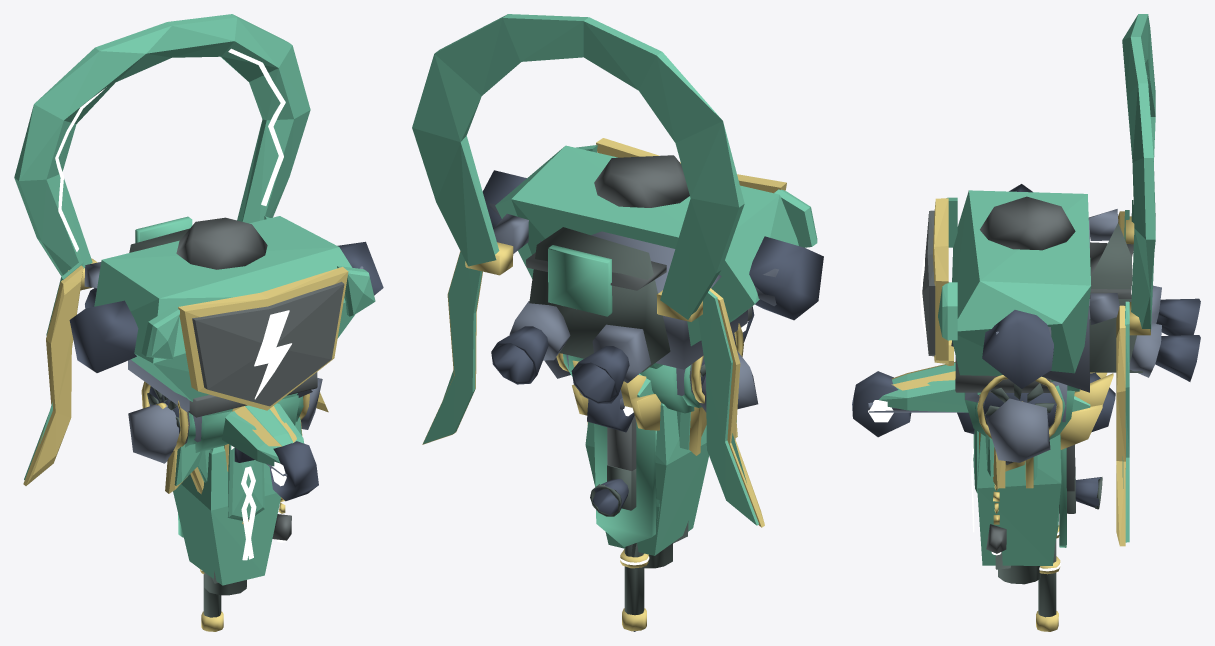
The model's file is fujin-lod2.glb.
3 renders of one model, left to right at view 1: azimuth 30°, elevation 25°; view 2: azimuth 150°, elevation 25°; view 3: azimuth 270°, elevation 25°, orthographic. The views are drawn at different scales.
Parts seen in each view (by area): view 1: chest/backpack/P, chest/chest/P, chest/chest/S, kneeL/shins/P, chest/backpack/T, chest/chest/D, chest/chest/T, hips/hips/K, ankleL/feet/P, ankleL/feet/D, elL/armL/P, chest/backpack/G (+10 smaller); view 2: chest/backpack/P, chest/chest/P, chest/backpack/F, kneeL/shins/P, chest/chest/D, chest/backpack/D, chest/backpack/K, hipL/thighs/P, chest/chest/S, chest/backpack/T, chest/chest/K, shR/shoulders/P (+11 smaller); view 3: chest/chest/P, chest/backpack/P, kneeL/shins/P, chest/chest/S, chest/chest/D, chest/backpack/F, hips/hips/K, chest/backpack/T, chest/backpack/K, chest/backpack/D, ankleL/feet/D, ankleL/feet/P (+16 smaller).
Boxes of the visible parts, box(x1,y1,x2,y2) form: chest/backpack/P: box(14, 14, 310, 479); chest/chest/P: box(94, 216, 375, 415); chest/chest/S: box(176, 217, 344, 406); kneeL/shins/P: box(173, 446, 280, 585); chest/backpack/T: box(23, 258, 328, 485); chest/chest/D: box(69, 241, 383, 372); chest/chest/T: box(178, 267, 348, 410); hips/hips/K: box(128, 378, 322, 463); ankleL/feet/P: box(222, 403, 304, 466); ankleL/feet/D: box(234, 441, 318, 501); elL/armL/P: box(228, 444, 264, 520); chest/backpack/G: box(55, 48, 285, 251); chest/backpack/P: box(412, 14, 758, 525); chest/chest/P: box(495, 145, 817, 368); chest/backpack/F: box(529, 227, 670, 372); kneeL/shins/P: box(585, 403, 708, 555); chest/chest/D: box(482, 170, 823, 320); chest/backpack/D: box(491, 326, 629, 404); chest/backpack/K: box(493, 213, 721, 383); hipL/thighs/P: box(594, 402, 662, 547); chest/chest/S: box(594, 155, 689, 207); chest/backpack/T: box(422, 242, 764, 527); chest/chest/K: box(489, 203, 778, 369); shR/shoulders/P: box(640, 365, 701, 413); chest/chest/P: box(938, 190, 1090, 391); chest/backpack/P: box(1122, 14, 1155, 542); kneeL/shins/P: box(977, 433, 1061, 565); chest/chest/S: box(922, 196, 1075, 356); chest/chest/D: box(982, 184, 1053, 388); chest/backpack/F: box(1089, 223, 1142, 372); hips/hips/K: box(965, 381, 1067, 462); chest/backpack/T: box(1116, 211, 1150, 546); chest/backpack/K: box(1088, 209, 1161, 377); chest/backpack/D: box(1155, 298, 1200, 381); ankleL/feet/D: box(852, 371, 1115, 437); ankleL/feet/P: box(879, 362, 1090, 412).
Size of the model in its own units: 3.69 by 6.69 by 3.57.
